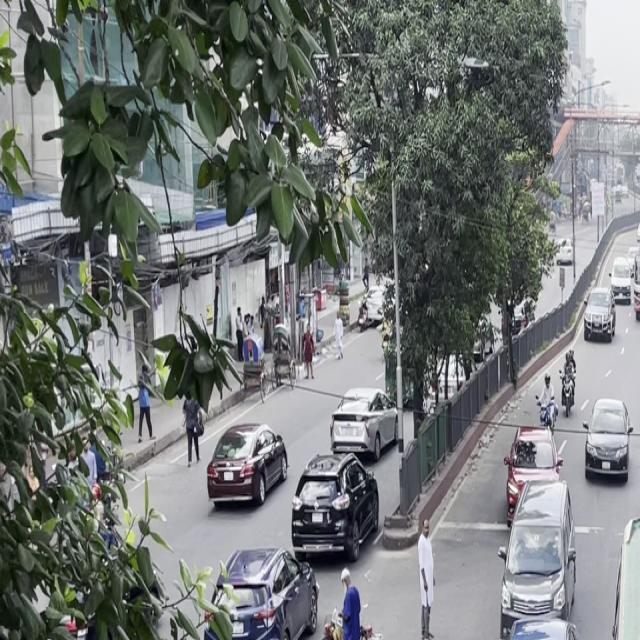bicycle: (310, 575, 397, 640)
bus: (572, 482, 640, 639), (632, 234, 640, 323)
car: (496, 477, 580, 638), (194, 537, 324, 640), (284, 447, 381, 565), (201, 413, 293, 519), (582, 392, 634, 491), (477, 608, 591, 640), (581, 286, 616, 346)
motorbike: (536, 369, 557, 433), (559, 344, 578, 414)
